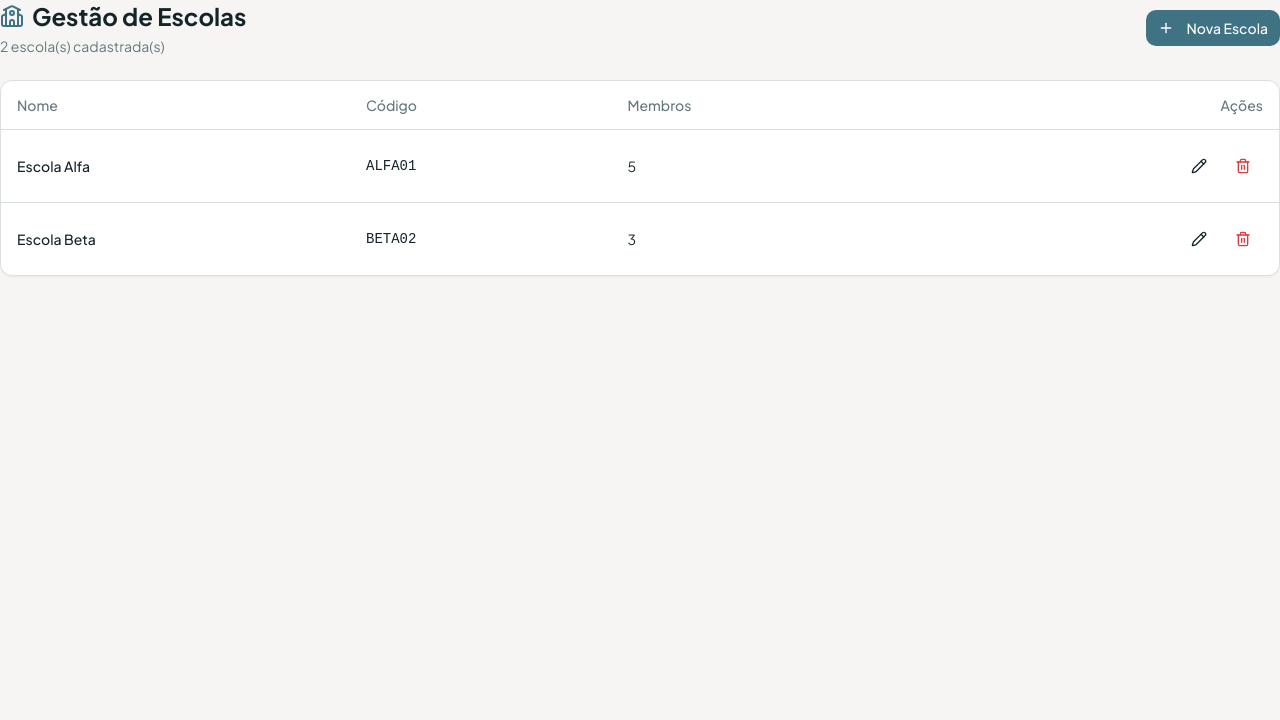
Test case: SchoolManagement › Delete school › opens delete confirmation with school name
The width and height of the screenshot is (1280, 720).
Step 1. Click the button titled "Excluir" in the row of "Escola Alfa" → [1243, 166], box [1223, 146, 1263, 186]
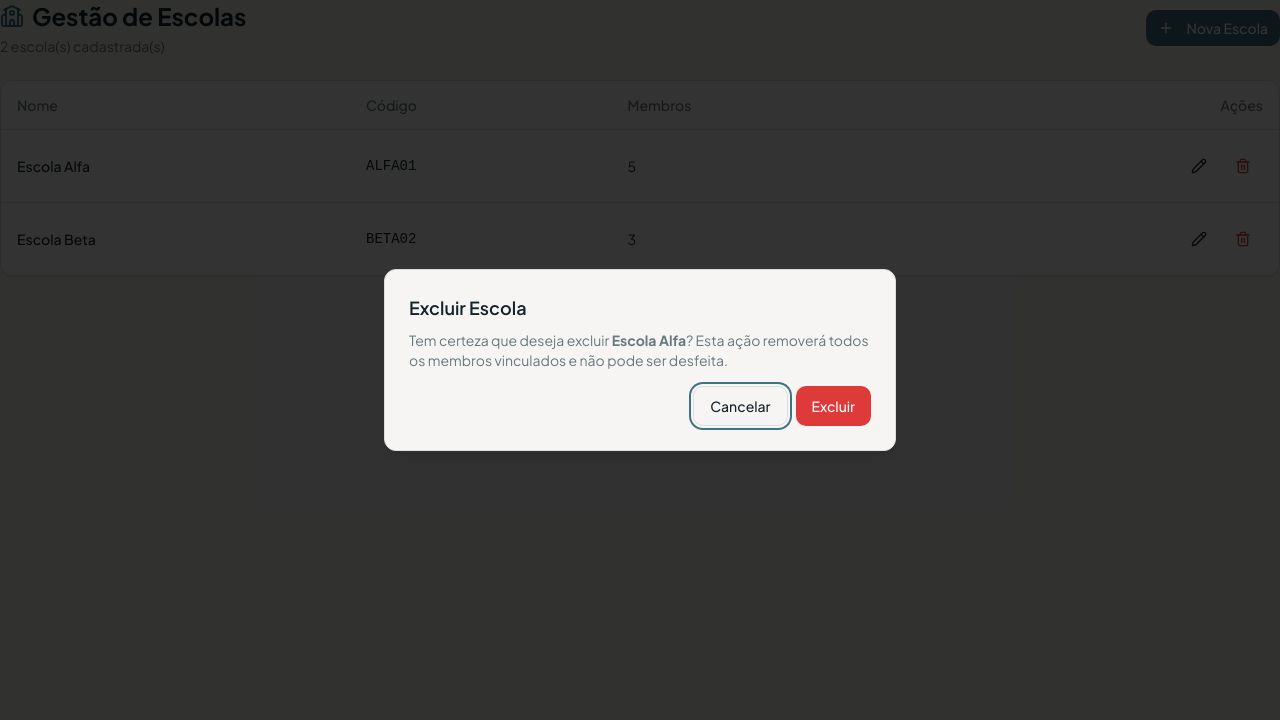
Result: the dialog is shown at [384, 269, 896, 451]
Result: the dialog shows "Escola Alfa" at [612, 331, 686, 349]
